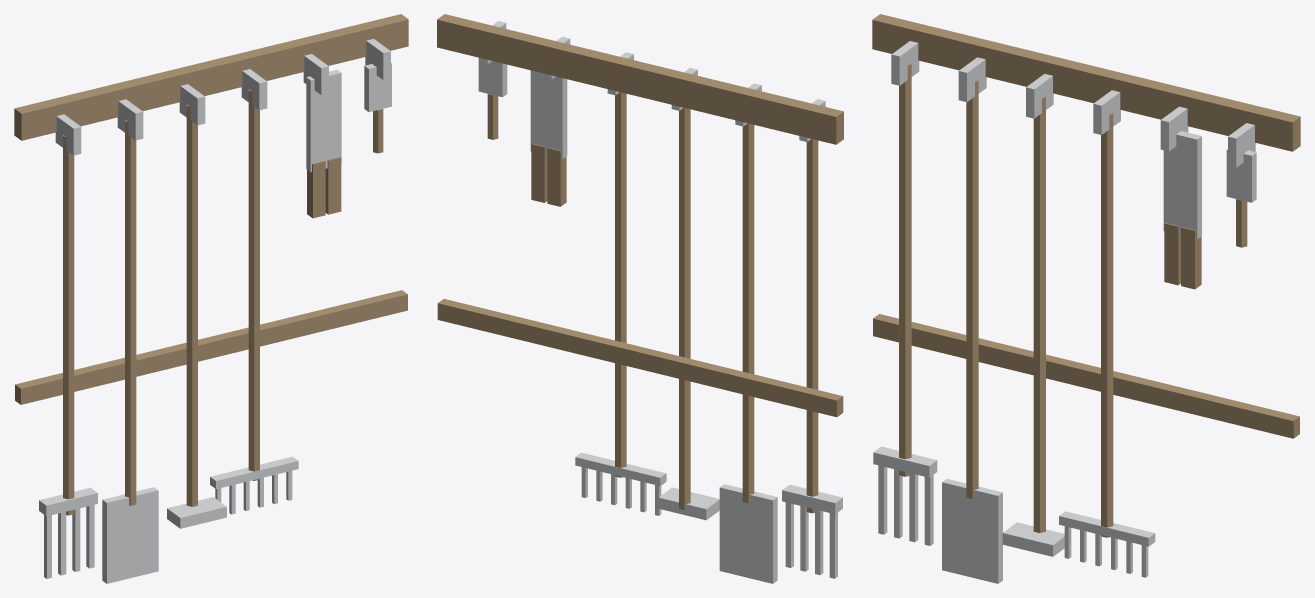
File: botanical-glasshouse-and-palm-house-botanical-glasshou-c927501a__38569.glb
3 renders of one model, left to right at view 1: azimuth 30°, elevation 25°; view 2: azimuth 150°, elevation 25°; view 3: azimuth 330°, elevation 25°, orthographic. The views are drawn at different scales.
Parts seen in each view (by area): view 1: botanical-glasshouse-and-palm-house-hand-tool-rack; view 2: botanical-glasshouse-and-palm-house-hand-tool-rack; view 3: botanical-glasshouse-and-palm-house-hand-tool-rack.
Boxes of the visible parts, <box> form: botanical-glasshouse-and-palm-house-hand-tool-rack: <box>14,14,408,583</box>; botanical-glasshouse-and-palm-house-hand-tool-rack: <box>437,14,843,583</box>; botanical-glasshouse-and-palm-house-hand-tool-rack: <box>872,14,1300,583</box>.
Size of the model in its own units: 1.5 by 1.78 by 0.18.
